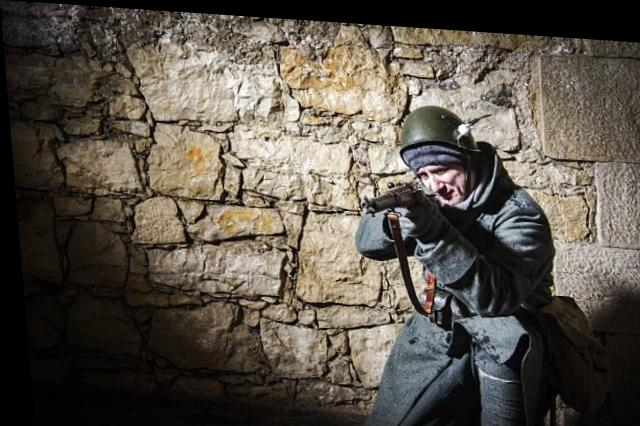other: (338, 94, 560, 424)
